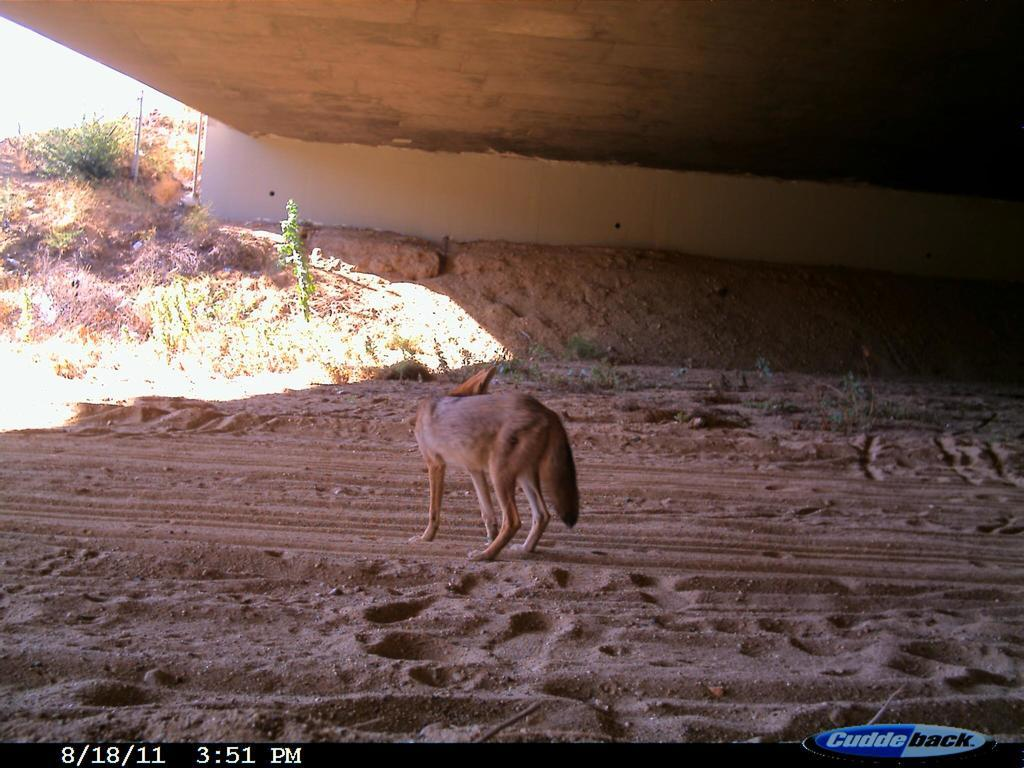coyote: (408, 363, 587, 562)
